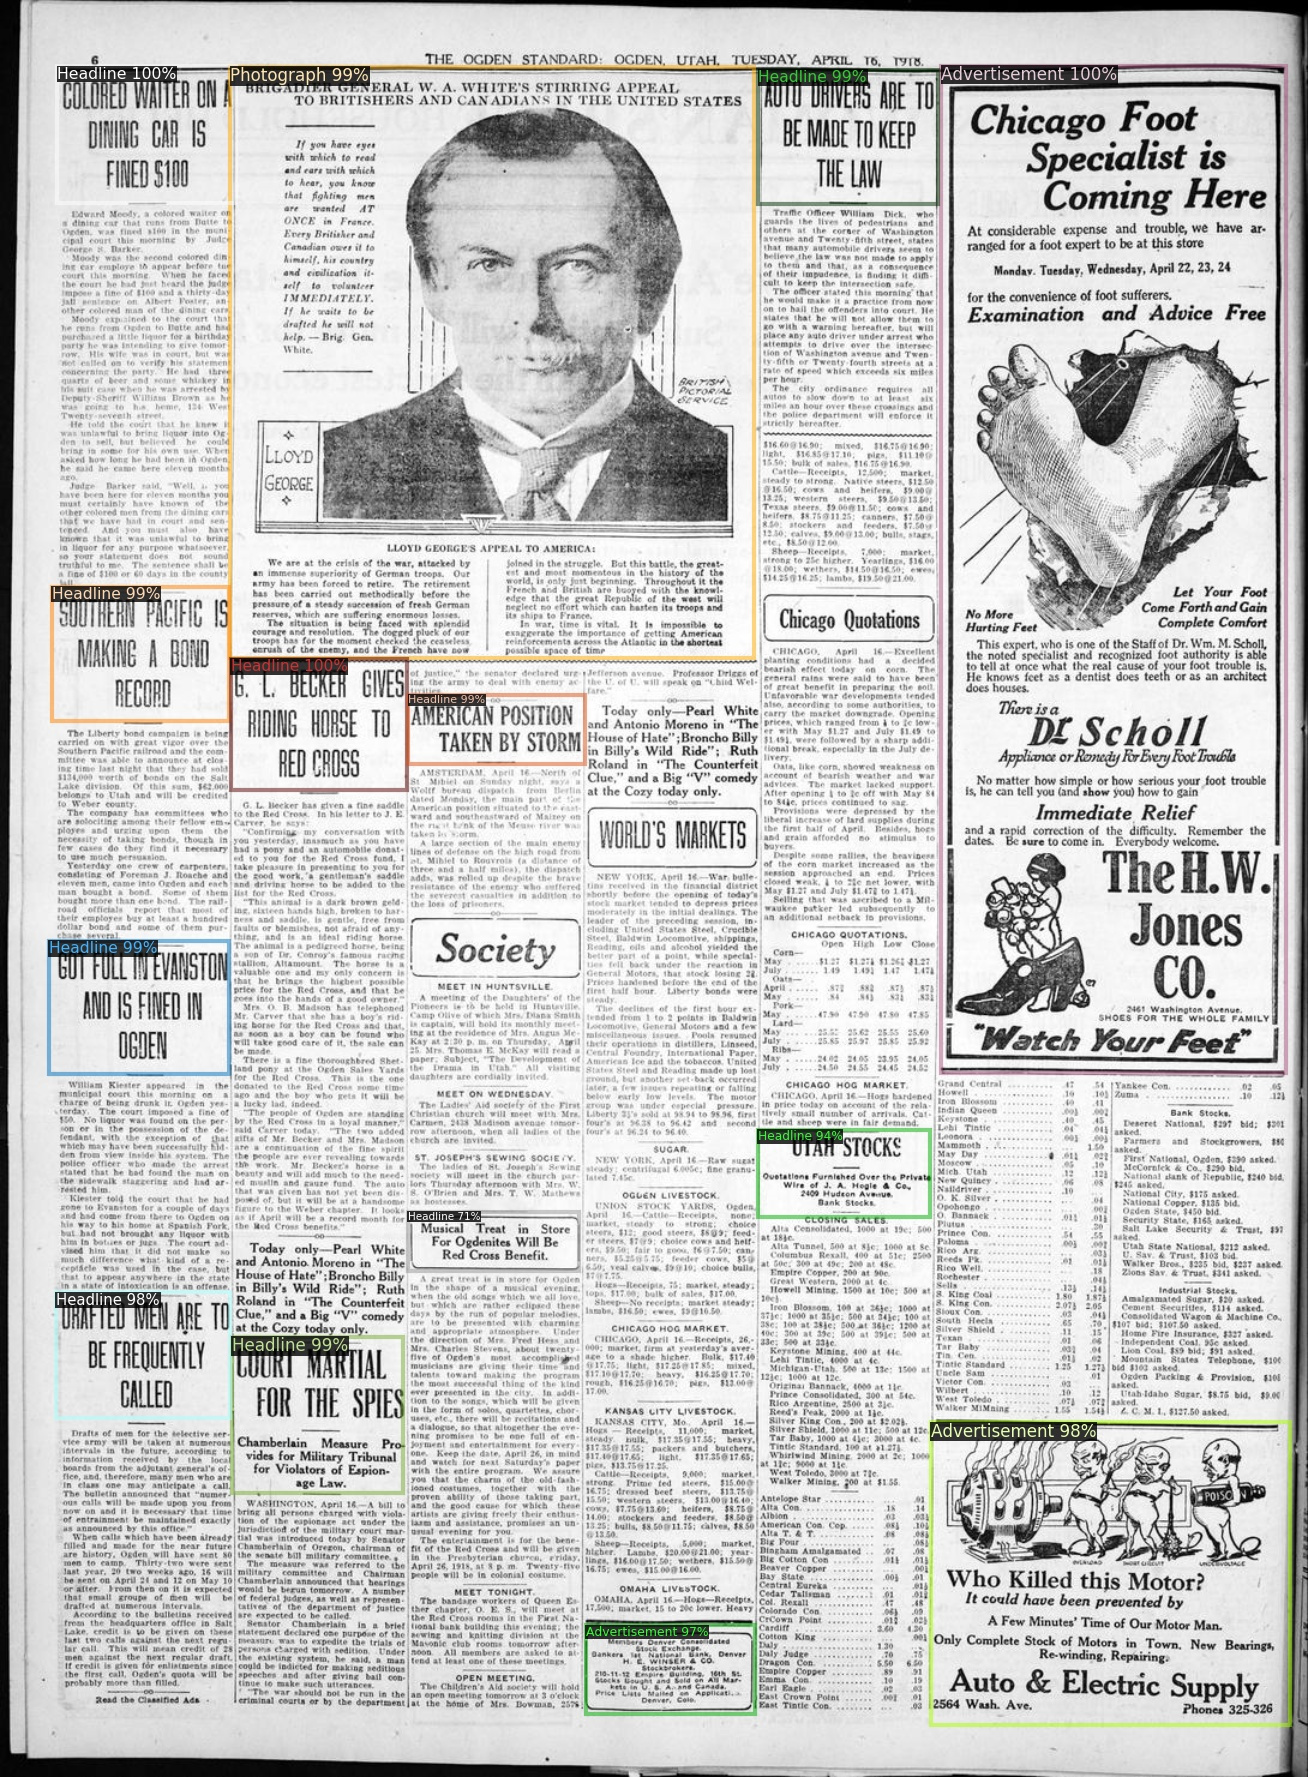news_paper: (14, 14, 1307, 1777)
